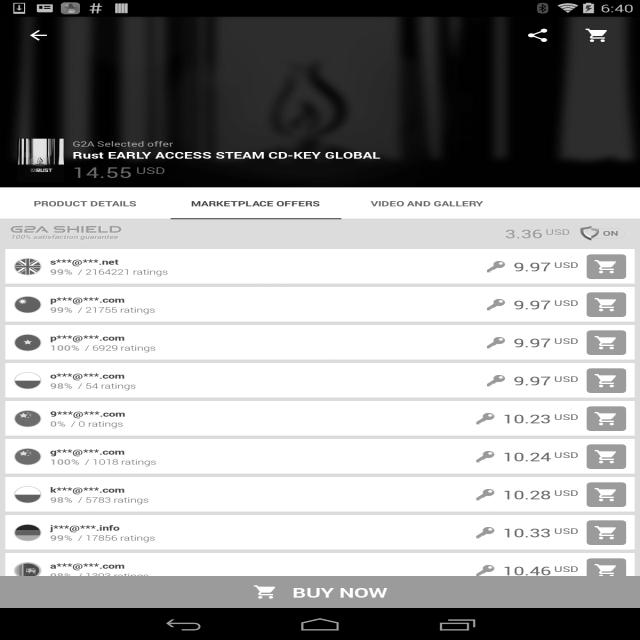ImageButton: (9, 17, 68, 54)
ImageView: (0, 17, 640, 187), (11, 139, 64, 182), (587, 254, 626, 279), (587, 292, 626, 317), (587, 330, 626, 355), (587, 368, 626, 393), (587, 406, 626, 431), (587, 444, 626, 469), (587, 482, 626, 507), (587, 520, 626, 545), (587, 558, 626, 583), (587, 596, 626, 621), (578, 225, 632, 242), (14, 258, 41, 275), (14, 296, 41, 313), (14, 334, 41, 351), (14, 372, 41, 389), (14, 410, 41, 427), (14, 448, 41, 465), (14, 486, 41, 503), (14, 524, 41, 541), (14, 562, 41, 579), (14, 600, 41, 617), (585, 28, 610, 44), (487, 261, 505, 272), (487, 299, 505, 310), (487, 337, 505, 348), (487, 375, 505, 386), (476, 413, 494, 424), (476, 451, 494, 462), (476, 489, 494, 500), (476, 527, 494, 538), (476, 565, 494, 576), (476, 603, 494, 614)
TextView: (72, 162, 630, 182), (11, 225, 570, 242), (72, 148, 630, 160), (72, 138, 630, 148), (241, 576, 399, 608), (50, 256, 479, 266), (50, 294, 479, 304), (50, 332, 479, 342), (50, 370, 479, 380), (50, 408, 468, 418), (50, 446, 468, 456), (50, 484, 468, 494), (50, 522, 468, 532), (50, 560, 468, 570), (50, 598, 468, 608), (512, 19, 563, 52), (191, 198, 320, 208), (503, 410, 578, 427), (503, 448, 578, 465), (503, 486, 578, 503), (503, 524, 578, 541), (503, 562, 578, 579), (503, 600, 578, 617), (370, 198, 483, 208), (514, 258, 578, 275), (514, 296, 578, 313), (514, 334, 578, 351), (514, 372, 578, 389), (34, 198, 136, 208), (78, 266, 173, 276), (78, 304, 160, 314), (78, 532, 160, 542), (85, 456, 162, 466), (85, 342, 161, 352), (78, 494, 154, 504), (78, 570, 154, 580), (78, 380, 141, 390), (71, 418, 128, 428), (50, 342, 85, 352), (50, 456, 85, 466), (50, 266, 78, 276), (50, 304, 78, 314), (50, 380, 78, 390), (50, 494, 78, 504), (50, 532, 78, 542), (50, 570, 78, 580), (50, 418, 71, 428)
